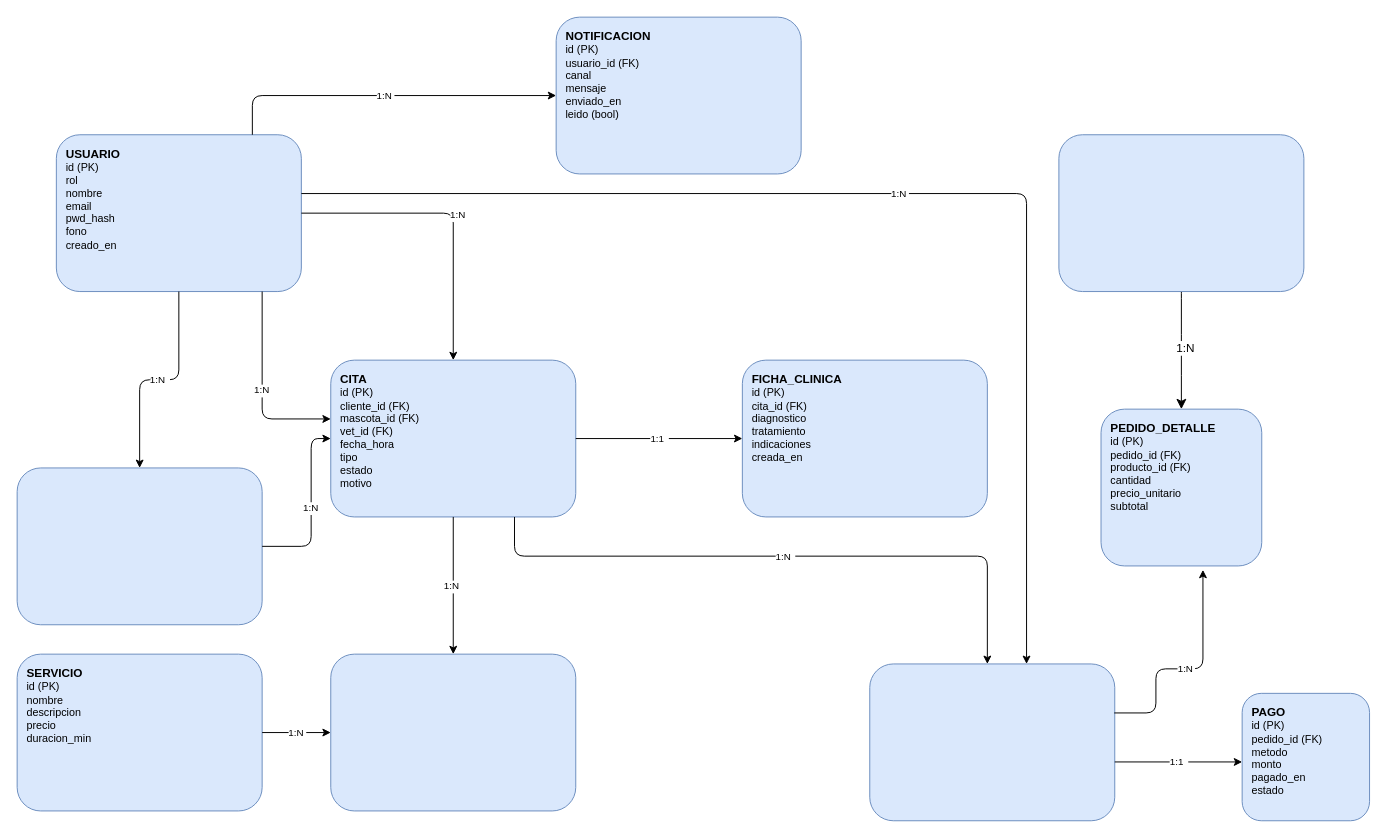
Image size: 1387x838. Some labels were removed from this diagram. Each missing label, with the centre of its shape:
CITA_DETALLE id (PK) cita_id (FK) servicio_id (FK) precio duracion_min: point 453,732
MASCOTA id (PK) cliente_id (FK) nombre especie raza edad sexo: point 139,546
PEDIDO id (PK) cliente_id (FK) cita_id (FK?) creado_en estado total: point 992,742
PRODUCTO id (PK) nombre descripcion precio stock: point 1181,213
